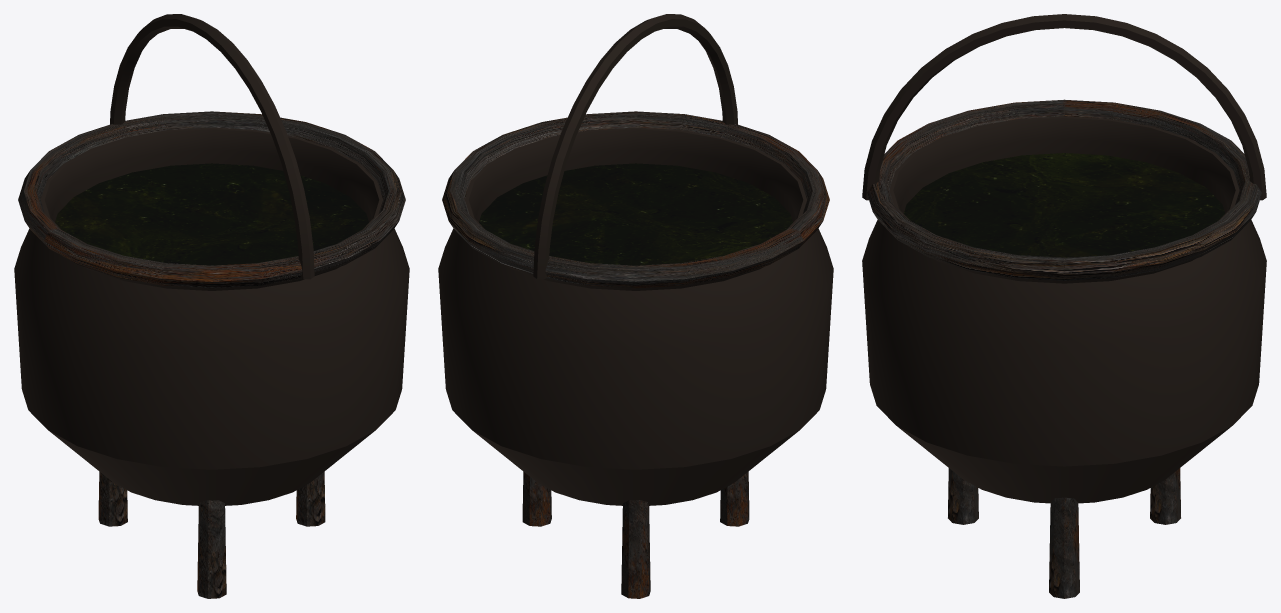
File: cauldron-v01-photo.glb
3 renders of one model, left to right at view 1: azimuth 30°, elevation 25°; view 2: azimuth 150°, elevation 25°; view 3: azimuth 270°, elevation 25°, orthographic. The views are drawn at different scales.
Visible parts, largest first — view 1: cauldron; view 2: cauldron; view 3: cauldron.
Part boxes in pixels (x1=…): cauldron: x1=14, y1=14, x2=409, y2=598; cauldron: x1=438, y1=14, x2=833, y2=598; cauldron: x1=862, y1=14, x2=1266, y2=598.
Size of the model in its own units: 1.04 by 1.5 by 1.04.
2 materials, 2 textured.
